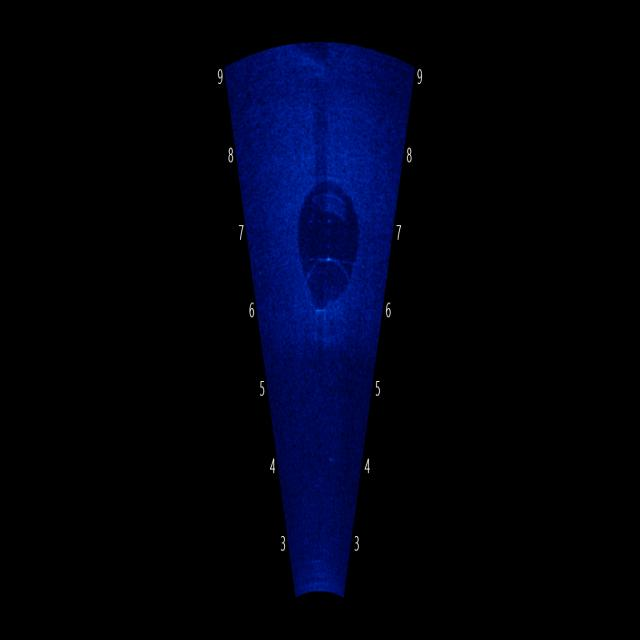circle: (286, 154, 372, 316)
